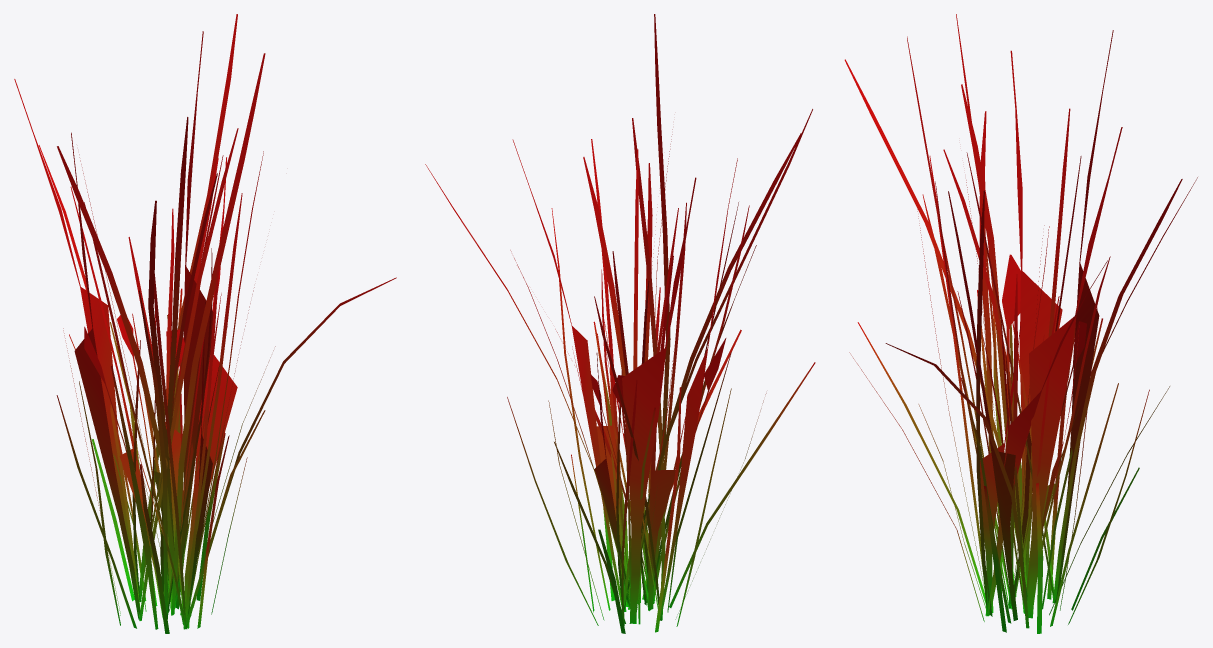
File: ueyoebmia_Var4_LOD2.fbx
The picture shows the model from 3 angles, left to right: view 1: azimuth 30°, elevation 25°; view 2: azimuth 150°, elevation 25°; view 3: azimuth 270°, elevation 25°; orthographic projection. The views are drawn at different scales.
Parts seen in each view (by area): view 1: _a0ac_Var4_LOD2; view 2: _a0ac_Var4_LOD2; view 3: _a0ac_Var4_LOD2.
Part boxes in pixels (x1=…): _a0ac_Var4_LOD2: x1=14, y1=14, x2=396, y2=633; _a0ac_Var4_LOD2: x1=425, y1=14, x2=815, y2=633; _a0ac_Var4_LOD2: x1=844, y1=14, x2=1197, y2=633.
Size of the model in its own units: 21.7 by 40.6 by 21.78.
